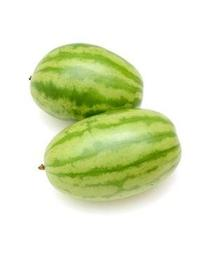watermelon: (39, 107, 183, 202), (30, 42, 146, 122)
